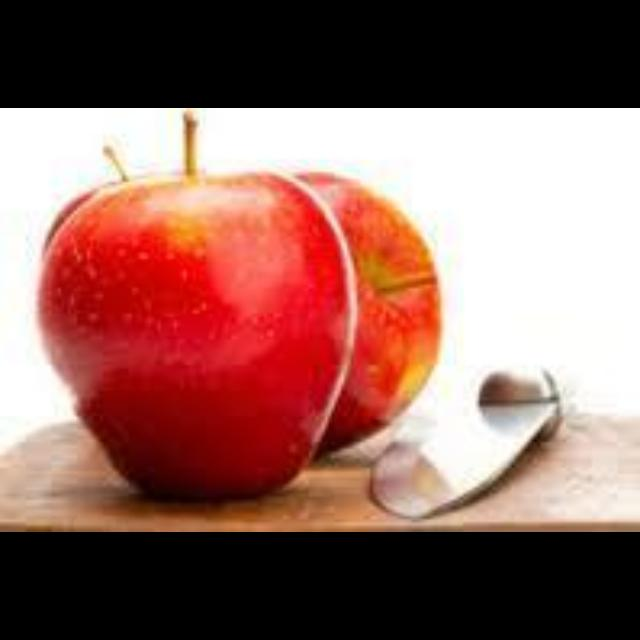apple: (35, 111, 354, 497), (296, 172, 441, 452)
